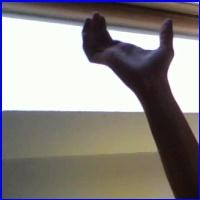space: (71, 8, 186, 87)
